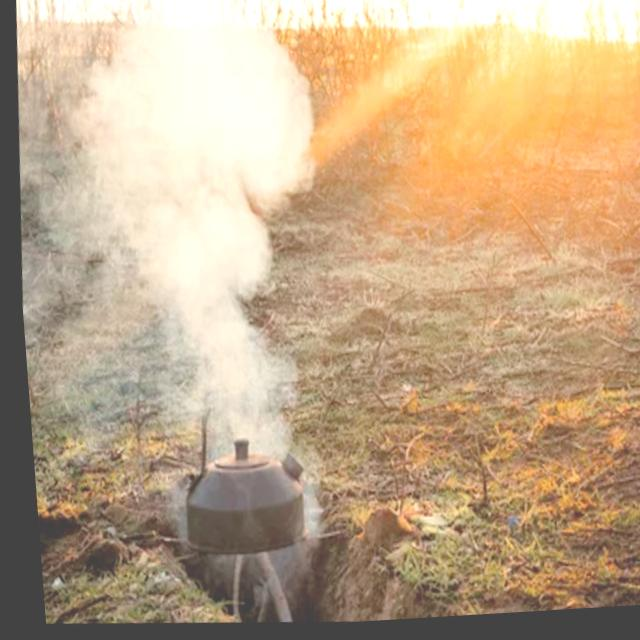Smoke: (56, 1, 336, 459)
